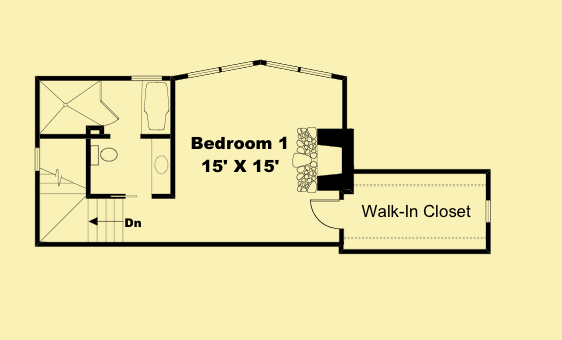door: (307, 197, 345, 231), (98, 100, 120, 126)
small_sink: (150, 136, 172, 195), (87, 143, 118, 168)
stairs: (39, 169, 126, 243)
tub: (141, 81, 172, 133)
window: (186, 60, 334, 79), (484, 195, 492, 226)
